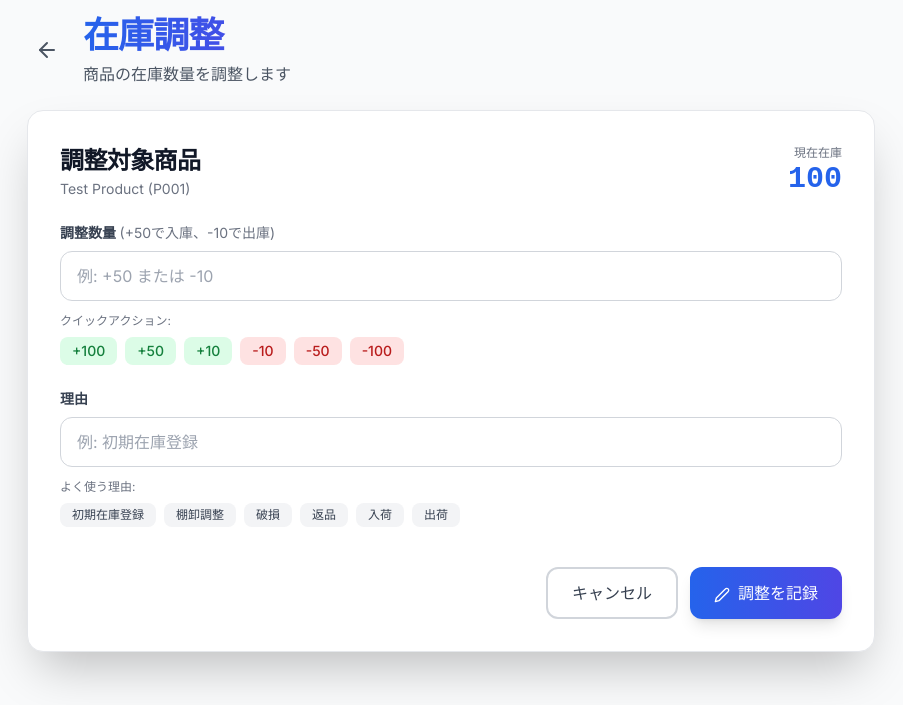
Test: InventoryAdjustment › Adjustment Form › should update reason when suggestion button is clicked
Click the button "初期在庫登録". click: point(108, 515)
box: [60,503,156,527]
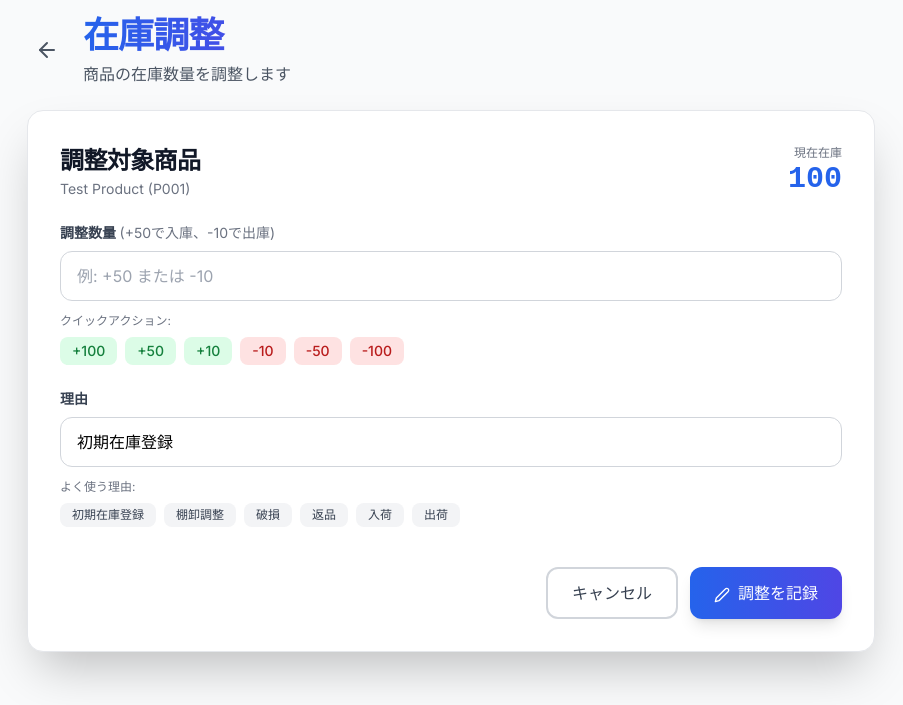
expect the field with placeholder "例: 初期在庫登録" holds "初期在庫登録": met, box [60,417,842,467]
